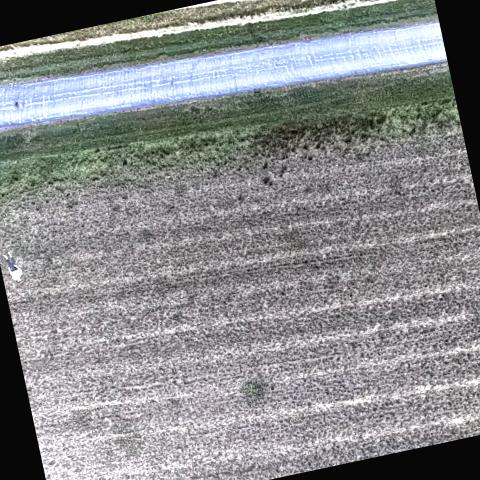person: (0, 245, 26, 287)
